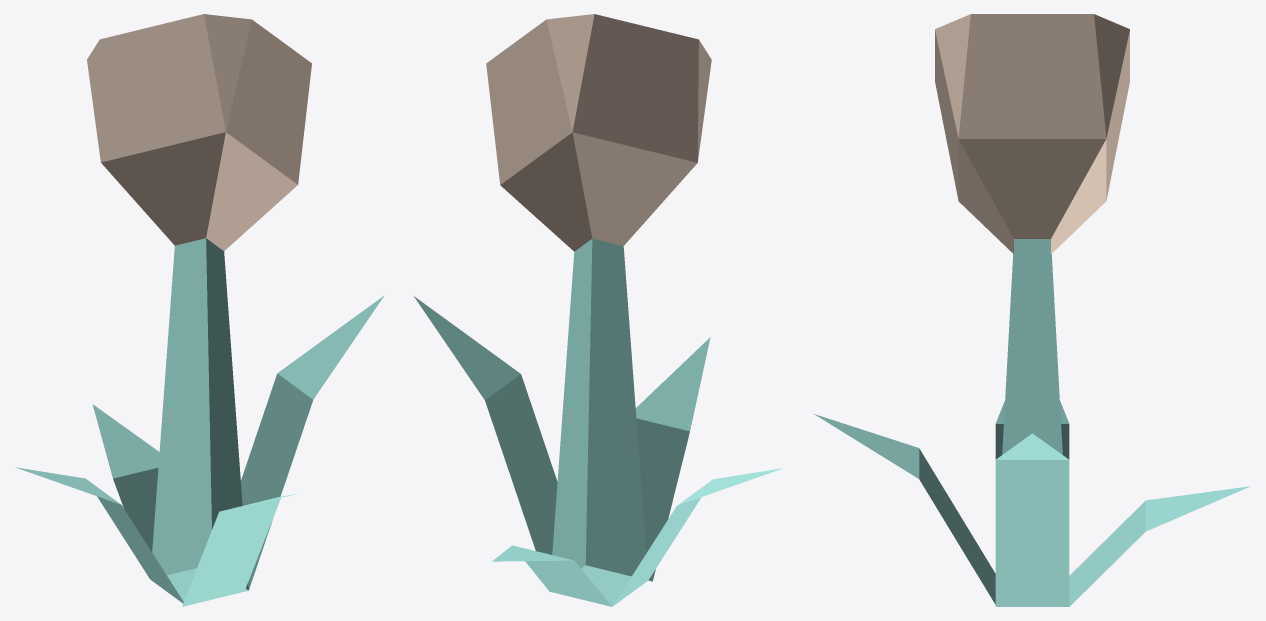
Rendered from flower_beige1.glb.
3 views of the same model, side by side, from view 1: azimuth 30°, elevation 25°; view 2: azimuth 150°, elevation 25°; view 3: azimuth 270°, elevation 25° (orthographic). The views are drawn at different scales.
Parts seen in each view (by area): view 1: flower_beige1; view 2: flower_beige1; view 3: flower_beige1.
Boxes of the visible parts, <box> form: flower_beige1: <box>15,14,384,606</box>; flower_beige1: <box>414,14,783,606</box>; flower_beige1: <box>814,14,1251,606</box>.
Size of the model in its own units: 2.08 by 2.8 by 2.08.
